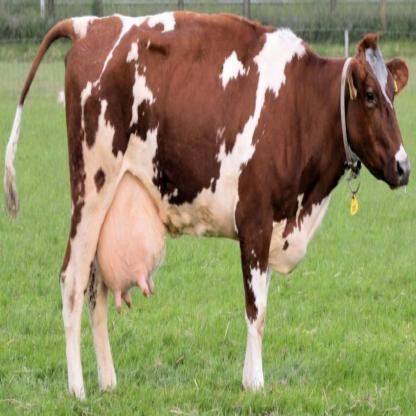cow: (6, 11, 410, 402)
